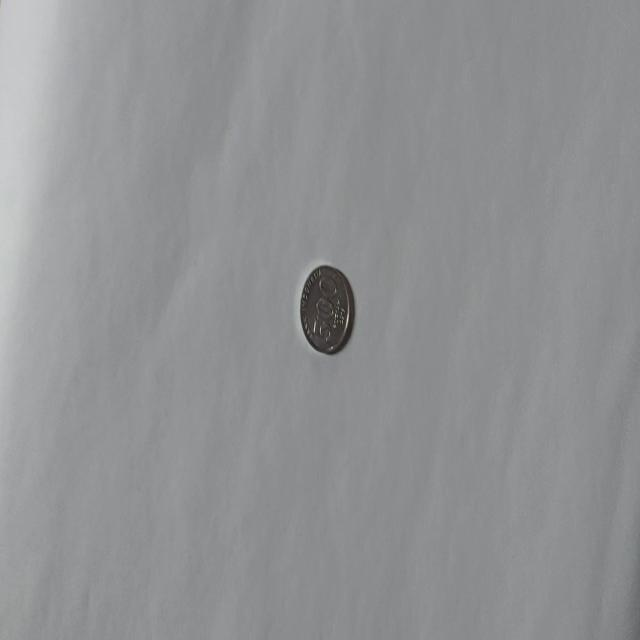lima ratus rupiah: (298, 263, 352, 355)
